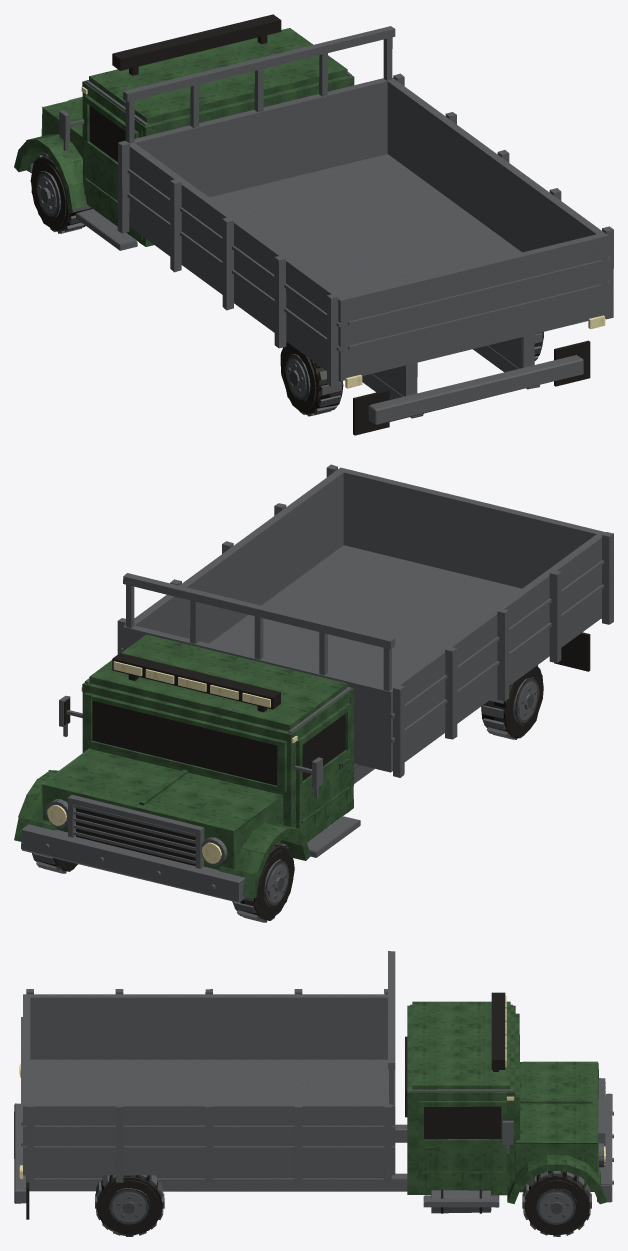
File: timber_wolf_4x4.glb
The picture shows the model from 3 angles, top to bottom: view 1: azimuth 30°, elevation 25°; view 2: azimuth 150°, elevation 25°; view 3: azimuth 270°, elevation 25°; orthographic projection. The views are drawn at different scales.
Visible parts, largest first — view 1: TimberWolf4x4, Tailgate, Wheel_L2, Door_L, Wheel_L1, Glass_L; view 2: TimberWolf4x4, Tailgate, Door_L, Wheel_L2, Wheel_L1, Glass_L; view 3: TimberWolf4x4, Door_R, Wheel_R1, Wheel_R2, Glass_R, Tailgate.
Boxes of the visible parts, x1=… form: TimberWolf4x4: x1=14, y1=14, x2=613, y2=435; Tailgate: x1=344, y1=234, x2=600, y2=371; Wheel_L2: x1=280, y1=342, x2=343, y2=416; Door_L: x1=84, y1=95, x2=139, y2=231; Wheel_L1: x1=30, y1=153, x2=92, y2=233; Glass_L: x1=89, y1=105, x2=125, y2=161; TimberWolf4x4: x1=14, y1=464, x2=613, y2=902; Tailgate: x1=343, y1=469, x2=600, y2=588; Door_L: x1=296, y1=703, x2=351, y2=835; Wheel_L2: x1=481, y1=665, x2=543, y2=739; Wheel_L1: x1=232, y1=842, x2=294, y2=922; Glass_L: x1=302, y1=713, x2=345, y2=780; TimberWolf4x4: x1=14, y1=951, x2=613, y2=1219; Door_R: x1=418, y1=1101, x2=506, y2=1186; Wheel_R1: x1=522, y1=1171, x2=591, y2=1236; Wheel_R2: x1=95, y1=1175, x2=164, y2=1236; Glass_R: x1=424, y1=1106, x2=501, y2=1139; Tailgate: x1=23, y1=997, x2=30, y2=1103.
Bounding box in the file's own units: 3.2 × 2.32 × 6.86.
5 materials, 4 textured.
